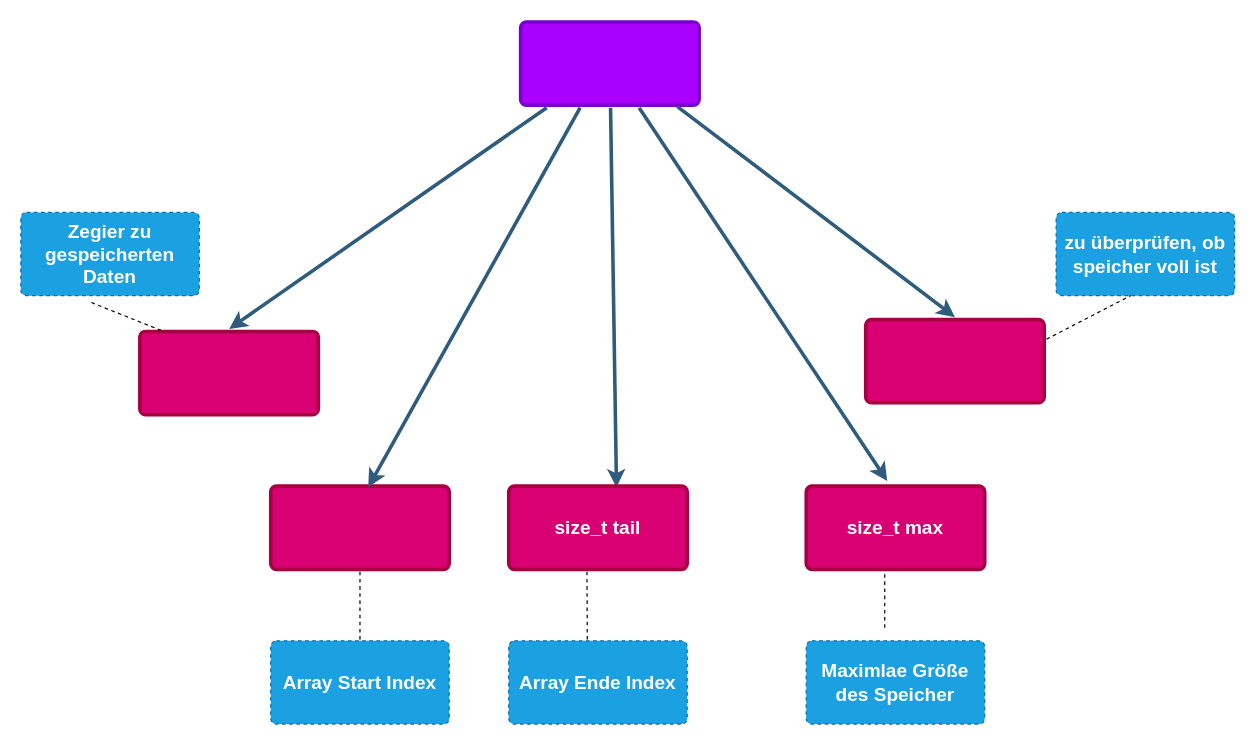
This 1255x745 diagram has some shape labels left out. Each missing label, with the centre of its shape:
"bool full" belongs at (954,360).
"size_t head" belongs at (359,527).
"Struct ringspeicher_t" belongs at (609,63).
"uint8_t* buffer" belongs at (228,372).
